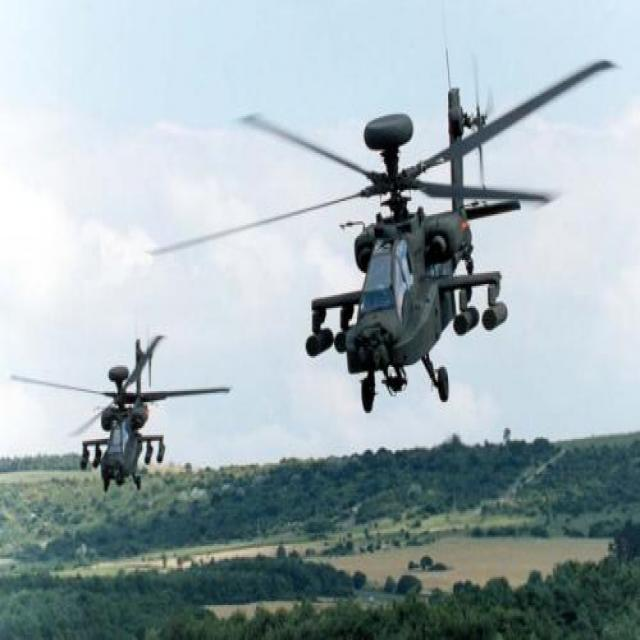MIL_HELO: (124, 53, 623, 415), (9, 333, 235, 486)
